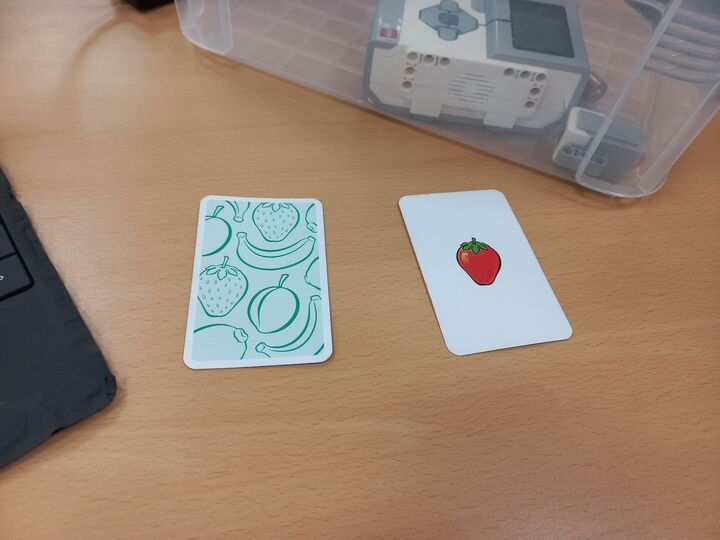strawberry1: (397, 187, 577, 358)
